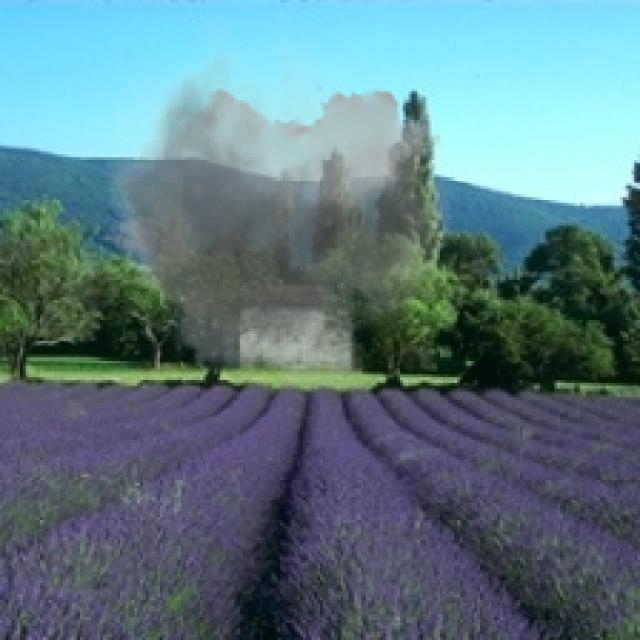smoke: (92, 8, 454, 406)
